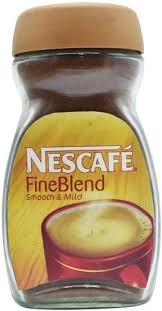nescafe-classic/gold-med: (7, 3, 157, 307)
